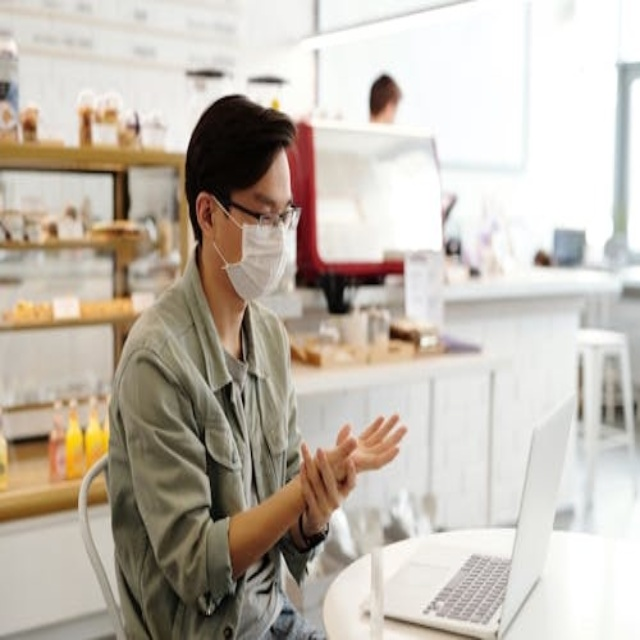Gafas: (217, 195, 300, 232)
Mascara: (212, 200, 294, 302)
Sin_guantes: (297, 438, 354, 542), (342, 411, 408, 478)
